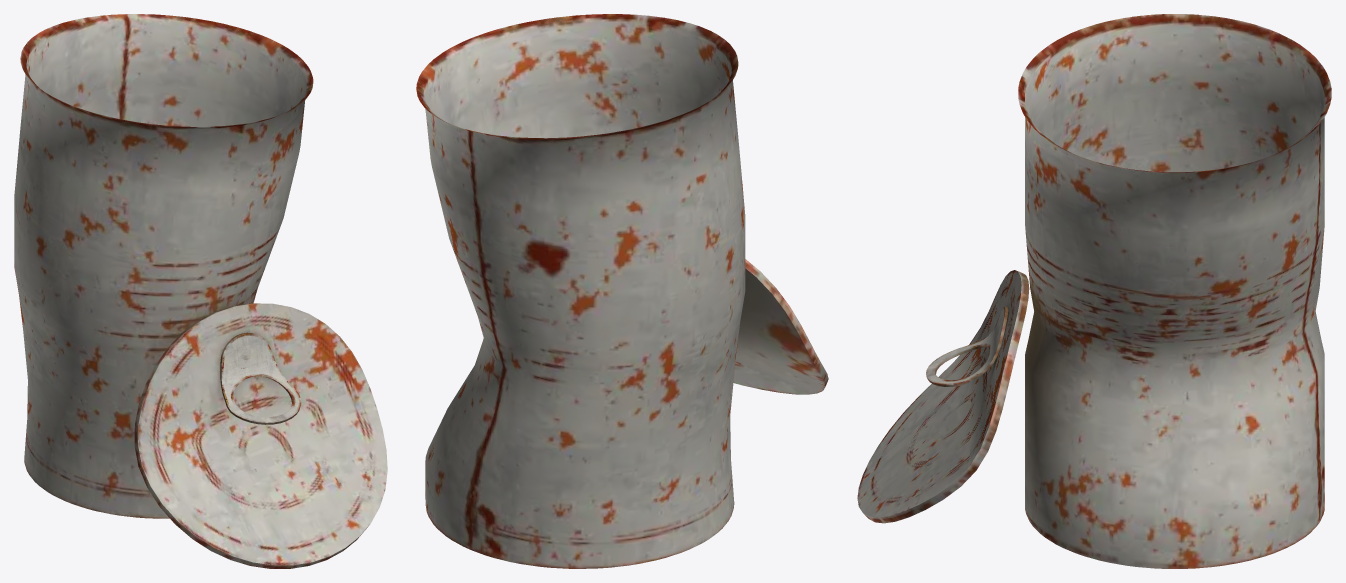
Rendered from s_latas.glb.
3 renders of one model, left to right at view 1: azimuth 30°, elevation 25°; view 2: azimuth 150°, elevation 25°; view 3: azimuth 270°, elevation 25°, orthographic. The views are drawn at different scales.
Visible parts, largest first — view 1: krishka_lp._banka_lp_0; view 2: krishka_lp._banka_lp_0; view 3: krishka_lp._banka_lp_0.
Boxes of the visible parts, box(x1,y1,x2,y2) form: krishka_lp._banka_lp_0: box(14, 14, 387, 568); krishka_lp._banka_lp_0: box(416, 14, 828, 568); krishka_lp._banka_lp_0: box(857, 14, 1331, 568).
Bounding box in the file's own units: 0.0813 × 0.12 × 0.1207.
Materials: 1 (1 with a texture image).
